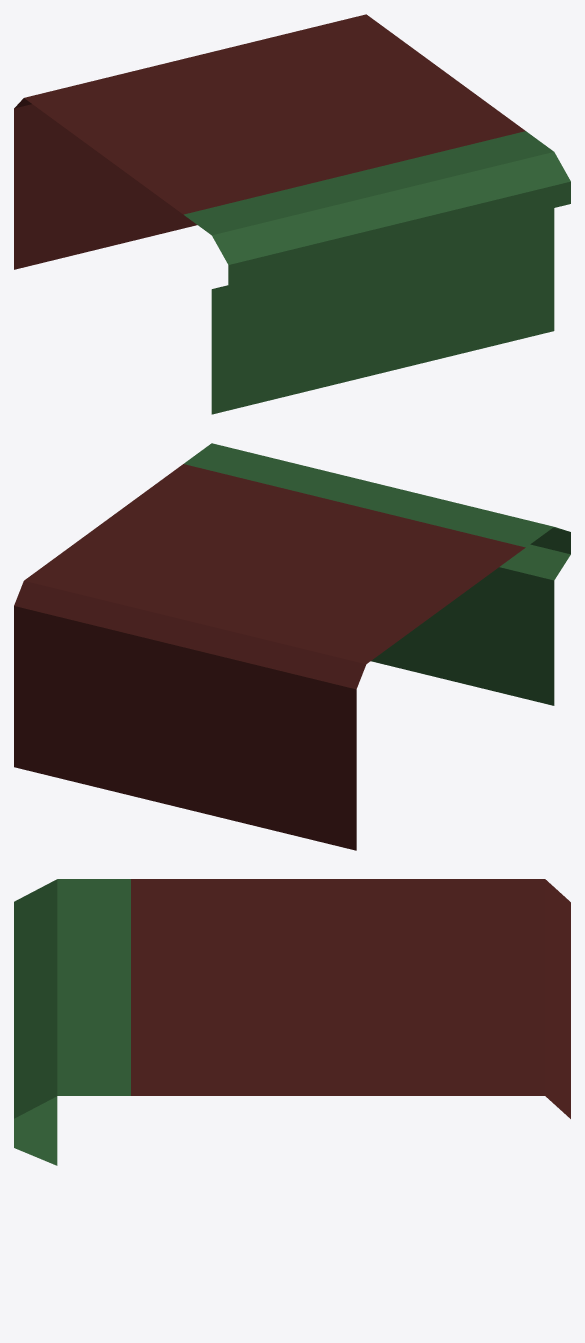
Rendered from PoolTable.fbx_PoolTableSide.fbx.
The picture shows the model from 3 angles, top to bottom: view 1: azimuth 30°, elevation 25°; view 2: azimuth 150°, elevation 25°; view 3: azimuth 270°, elevation 25°; orthographic projection. The views are drawn at different scales.
Visible parts, largest first — view 1: PoolTableSide; view 2: PoolTableSide; view 3: PoolTableSide.
Part boxes in pixels (box(x1,y1,x2,y2)): PoolTableSide: box(14, 14, 570, 414); PoolTableSide: box(14, 443, 570, 850); PoolTableSide: box(14, 879, 570, 1165).
Bounding box in the file's own units: 2 × 1 × 2.17.
